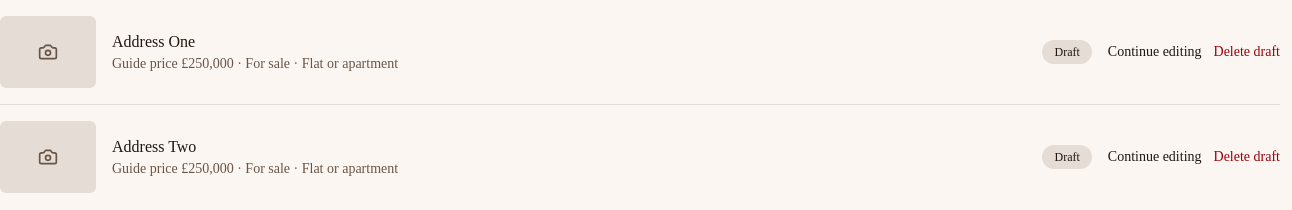
Scenario: ListingsList › removes a row from the list once it is deleted
Click the button "Delete draft" in the row of "Address One". click: (1247, 52)
box: left=1214, top=42, right=1280, bottom=62
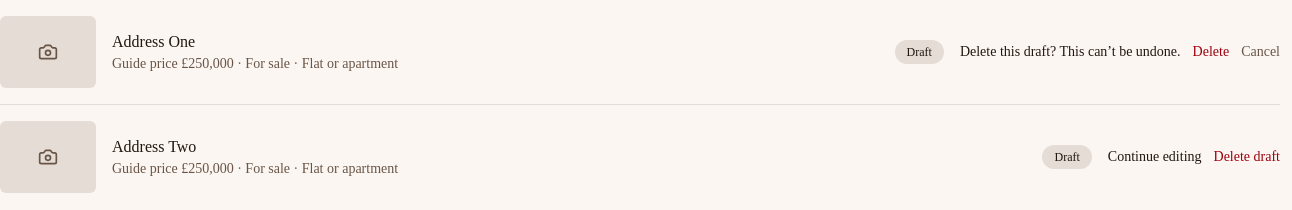
Click the button "Delete". click: (1211, 52)
box: left=1193, top=42, right=1229, bottom=62
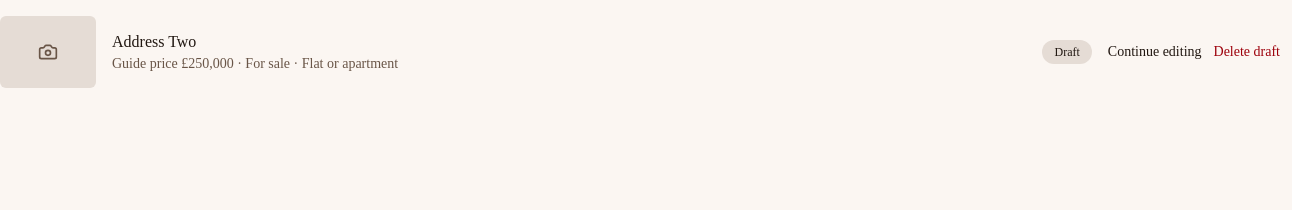
Expected: the text "Address Two" is shown, left=112, top=33, right=196, bottom=50
Expected: the text "Address One" is gone
